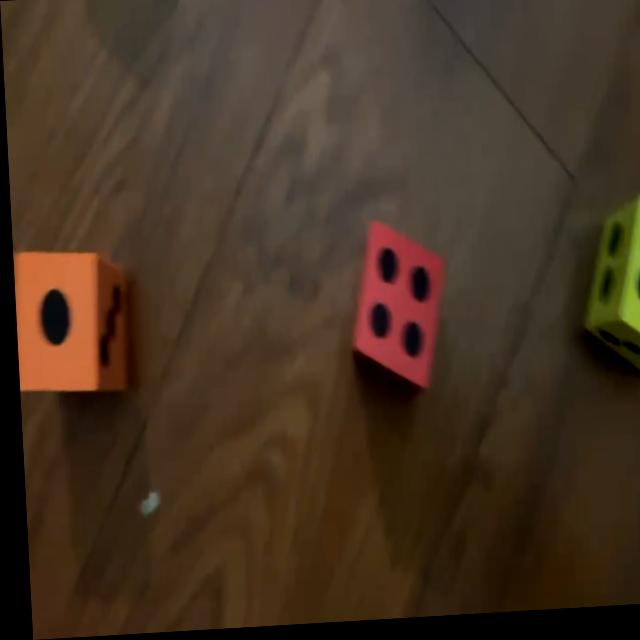red_block: (341, 222, 445, 394)
